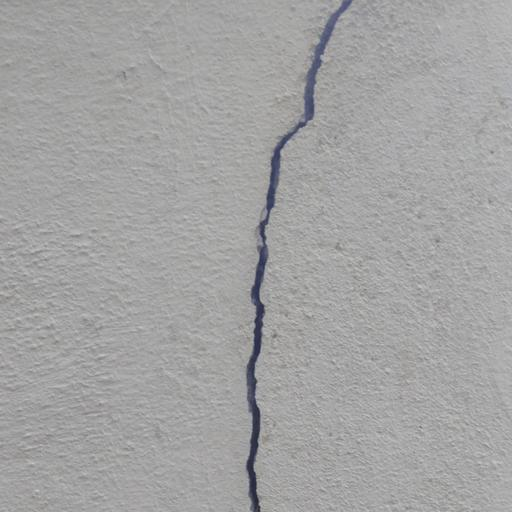major_crack: (234, 0, 365, 512)
